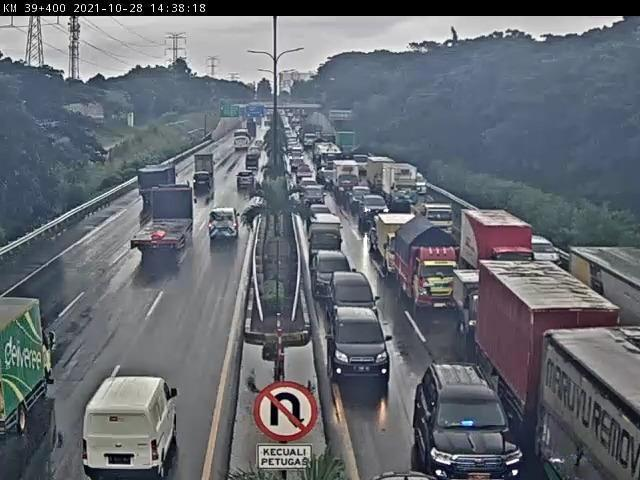car: (414, 360, 522, 480), (71, 370, 188, 480), (329, 311, 390, 381), (313, 252, 357, 303), (333, 271, 379, 316), (209, 202, 242, 248), (411, 230, 451, 257), (531, 232, 557, 262), (194, 167, 221, 195), (236, 170, 259, 193)
truck: (480, 260, 614, 428), (532, 320, 640, 480), (1, 294, 59, 444), (398, 209, 465, 318), (571, 246, 640, 334), (459, 208, 553, 270), (127, 189, 196, 259), (453, 272, 502, 336), (376, 213, 419, 270), (136, 160, 179, 207), (193, 150, 222, 181)
